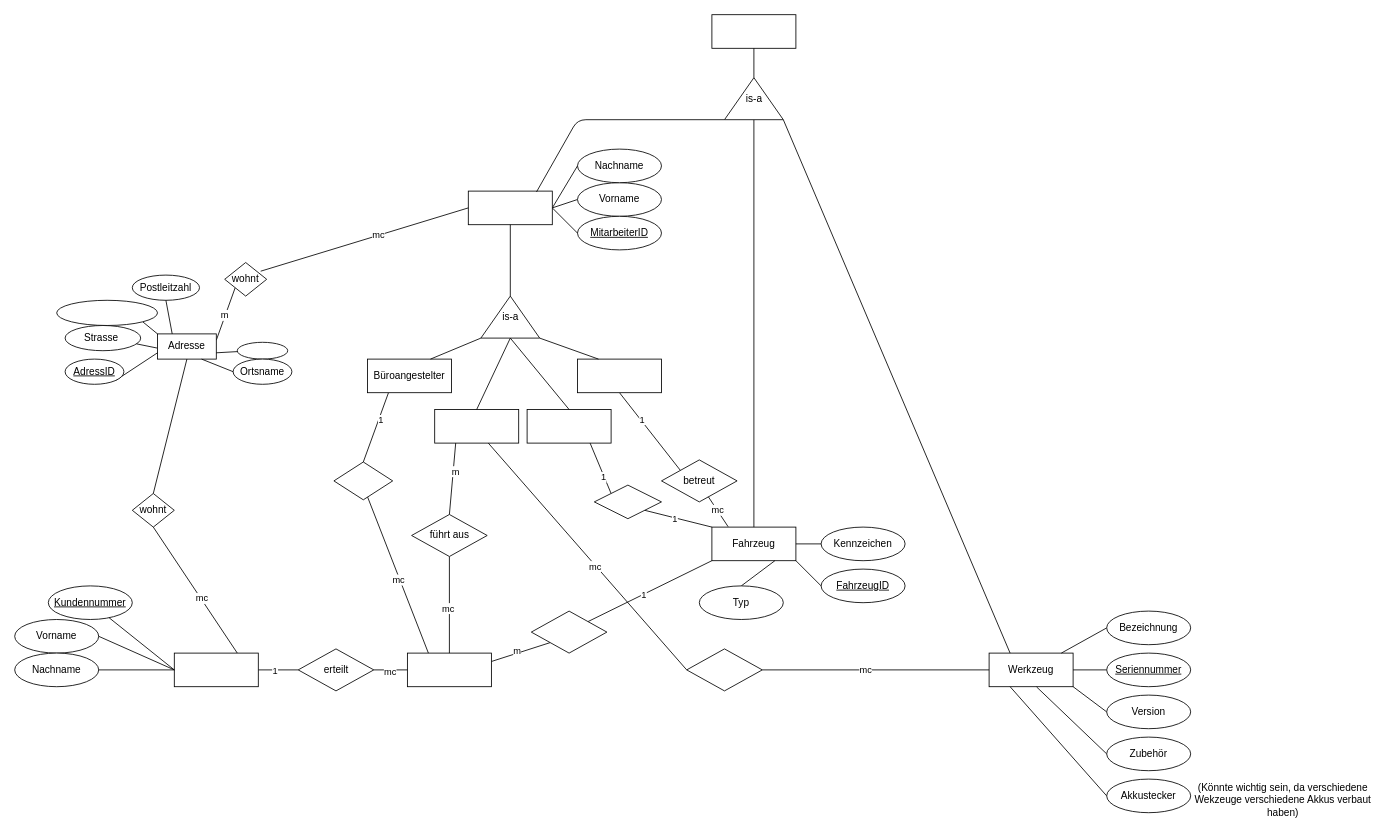
The diagram is 1390 pixels wide and 832 high, and some of its shapes have lost their labels. Each missing label, with the box of its shape:
Arbeiter: (434, 409, 519, 443)
Auftrag: (407, 652, 491, 687)
benötigt: (530, 610, 607, 653)
betreuet: (333, 461, 393, 500)
braucht: (686, 648, 762, 691)
Fahrer: (526, 409, 611, 443)
fährt: (593, 484, 662, 519)
Hausnummer: (56, 299, 158, 326)
Kunde: (173, 652, 258, 687)
Mitarbeiter: (467, 190, 552, 225)
Objekt: (711, 14, 796, 48)
Ort: (236, 341, 288, 359)
Techniker: (577, 358, 662, 393)
